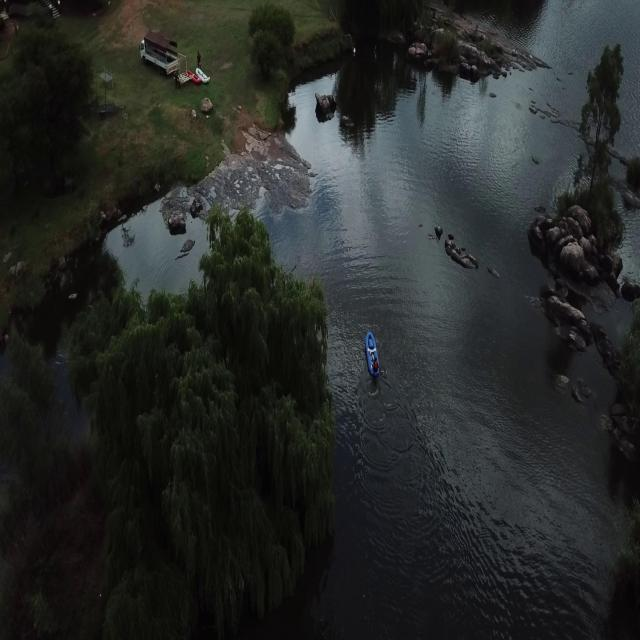kayak: (362, 327, 386, 378)
